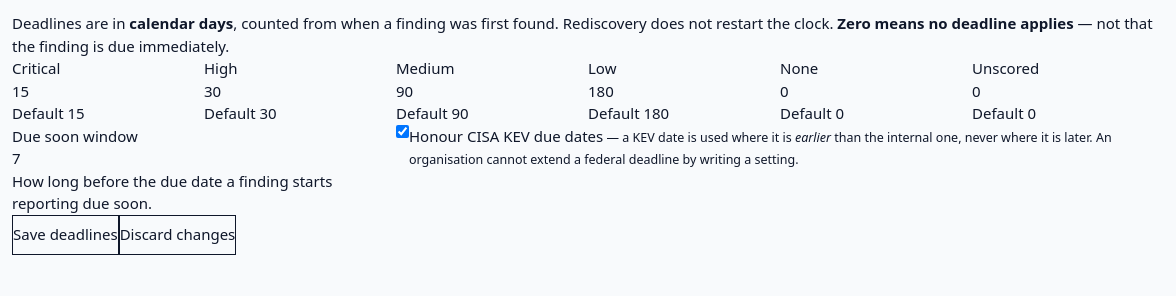
saving › renders the backend's note verbatim rather than paraphrasing it
Expected: the number field labelled "Critical" is shown, [12,80,204,100]
Replace the text in the number field labelled "High" with "14": point(300, 90) [204,80,396,100]
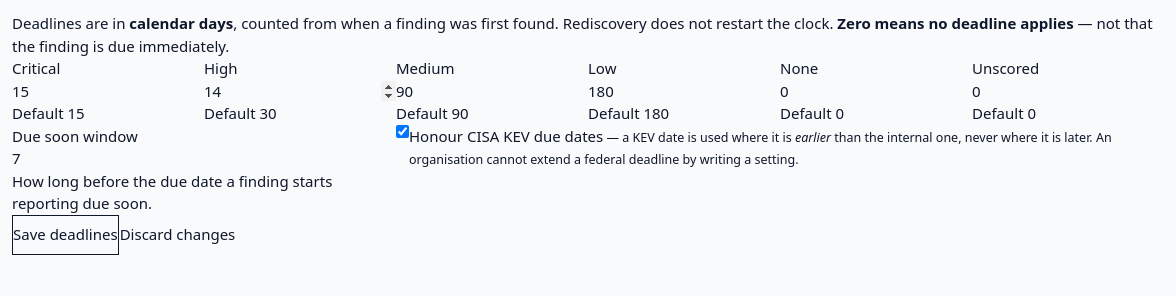
Click the button "Save deadlines": point(65, 234) [12,214,119,254]
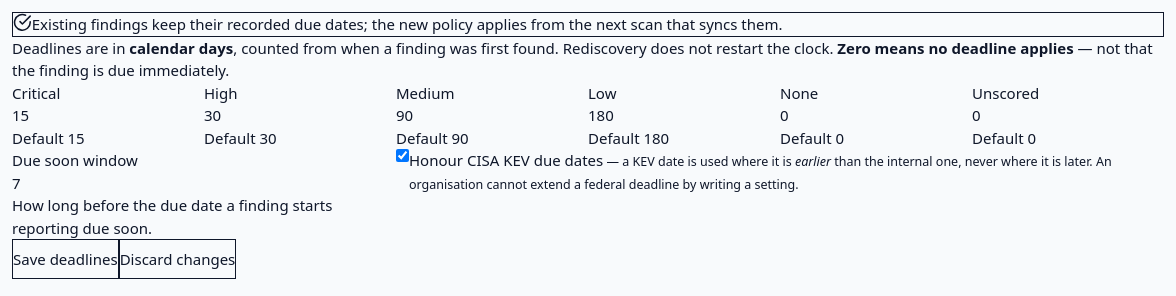
Result: the text "Existing findings keep their recorded due dates; the new policy applies from the next scan that syncs them." is shown at [32,14,783,34]
